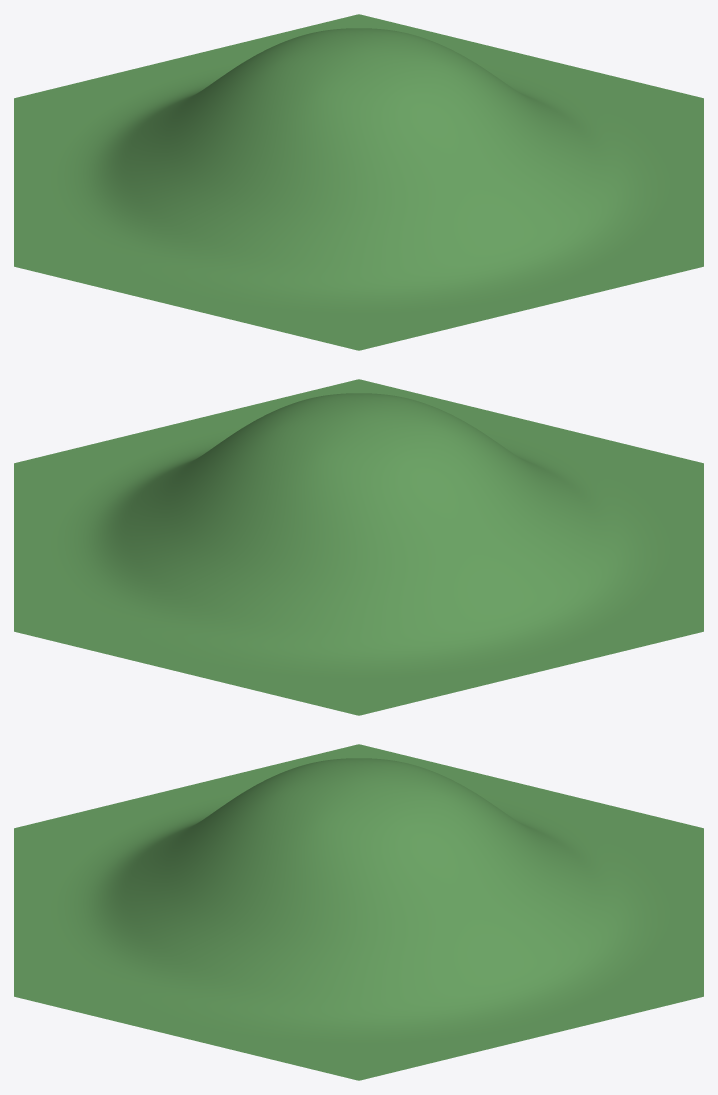
Rendered from t_bighill.fbx.
3 views of the same model, one above another, from view 1: azimuth 30°, elevation 25°; view 2: azimuth 150°, elevation 25°; view 3: azimuth 270°, elevation 25° (orthographic).
Parts seen in each view (by area): view 1: t_bighill; view 2: t_bighill; view 3: t_bighill.
Part boxes in pixels (bbox=[...]): t_bighill: bbox=[14, 14, 703, 350]; t_bighill: bbox=[14, 379, 703, 715]; t_bighill: bbox=[14, 744, 703, 1080].
Size of the model in its own units: 20002 by 3710 by 17322.
